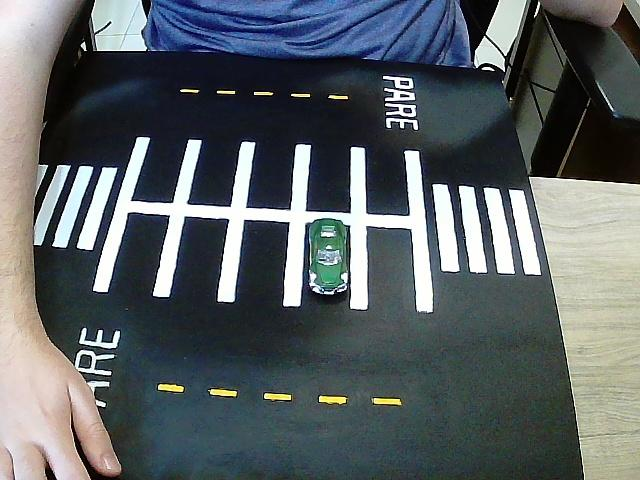Carro: (307, 219, 350, 297)
